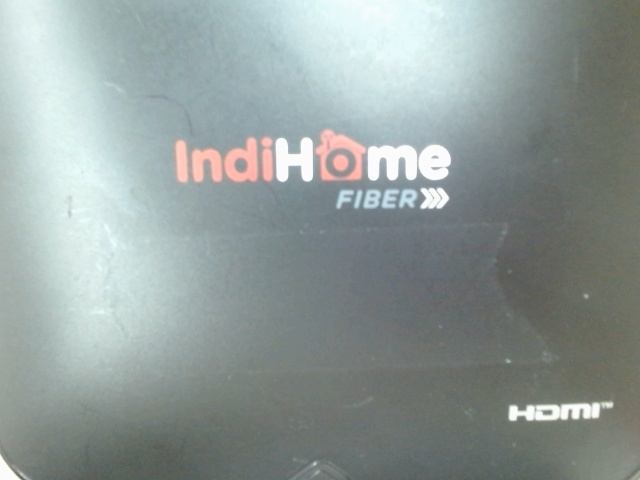AF_IndiHome: (156, 122, 457, 214)
